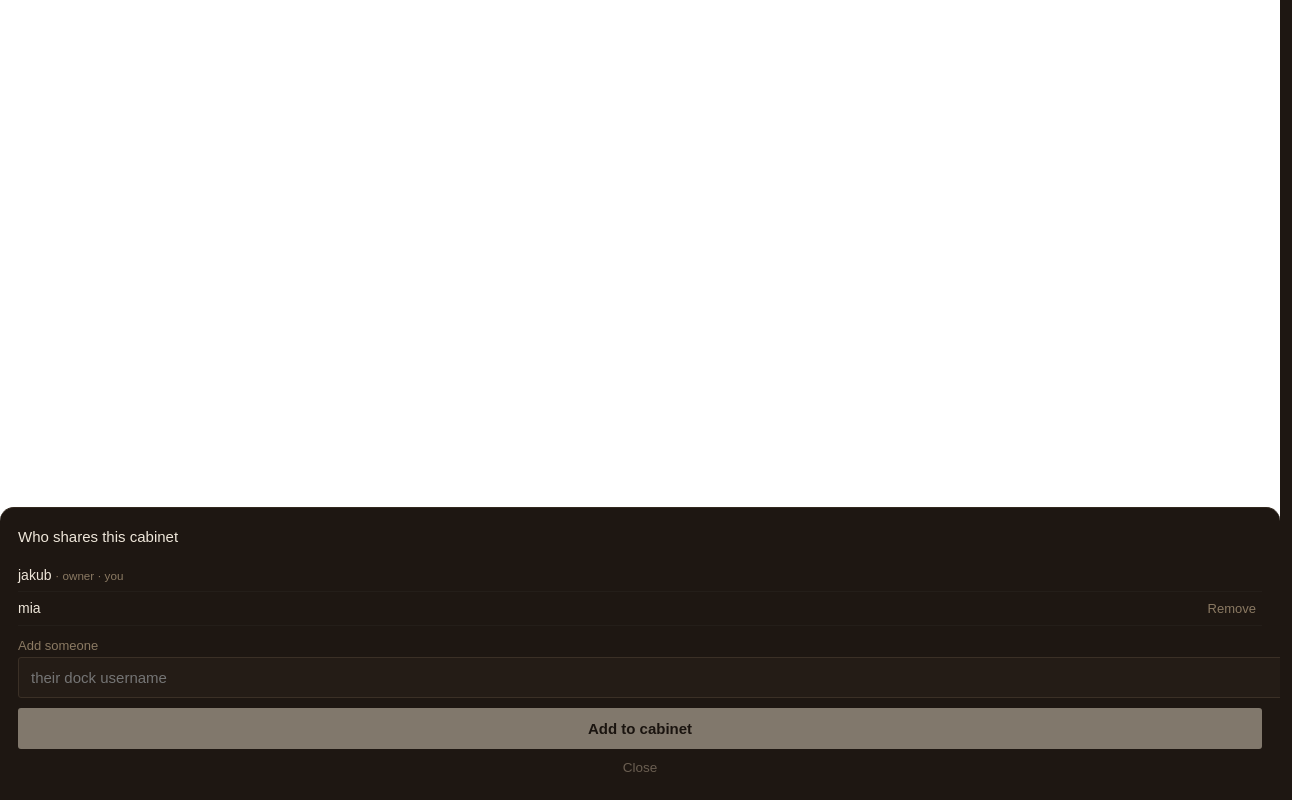
Test case: HouseholdSheet › shows why an add was refused
Type "ola" into the field with test id "household-add-input" at (649, 678), box [18,657,1280,698]
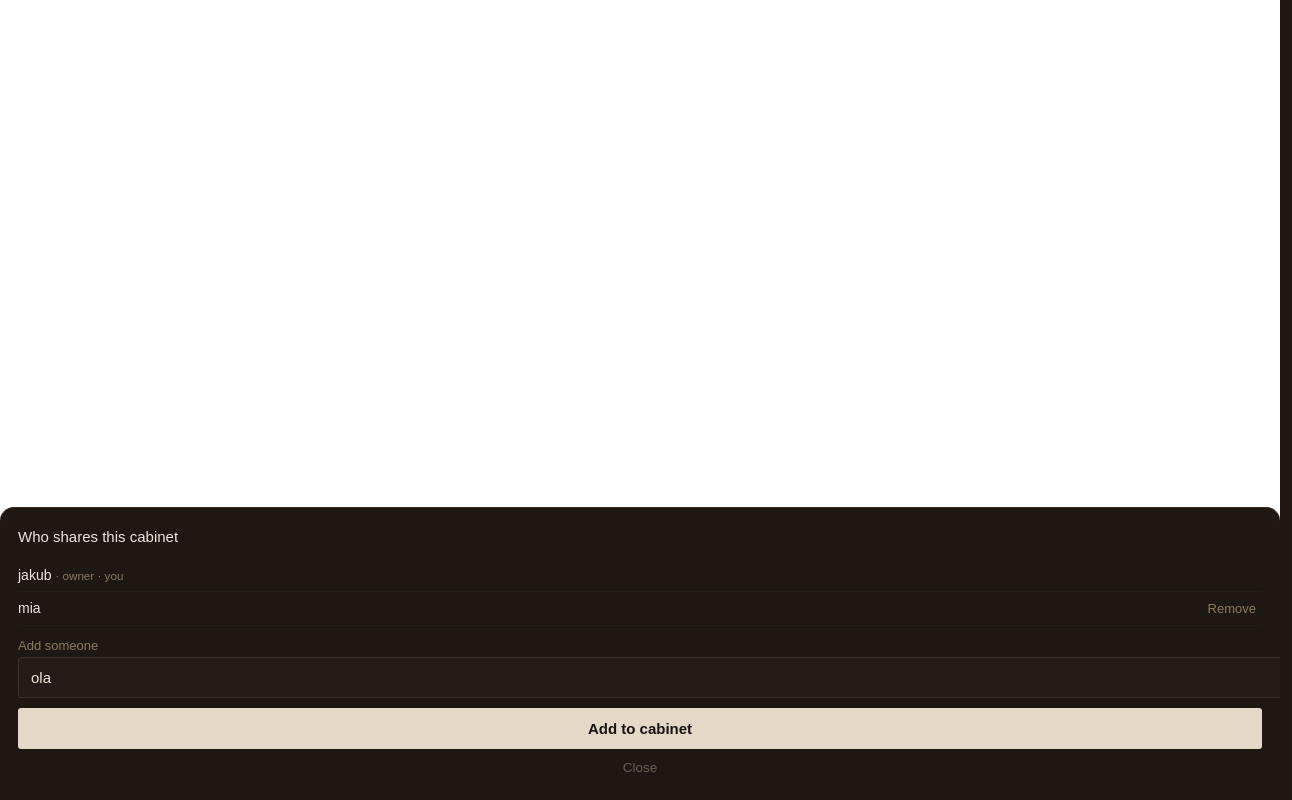
Click the button with test id "household-add" at (640, 728), box [18,708,1262,749]
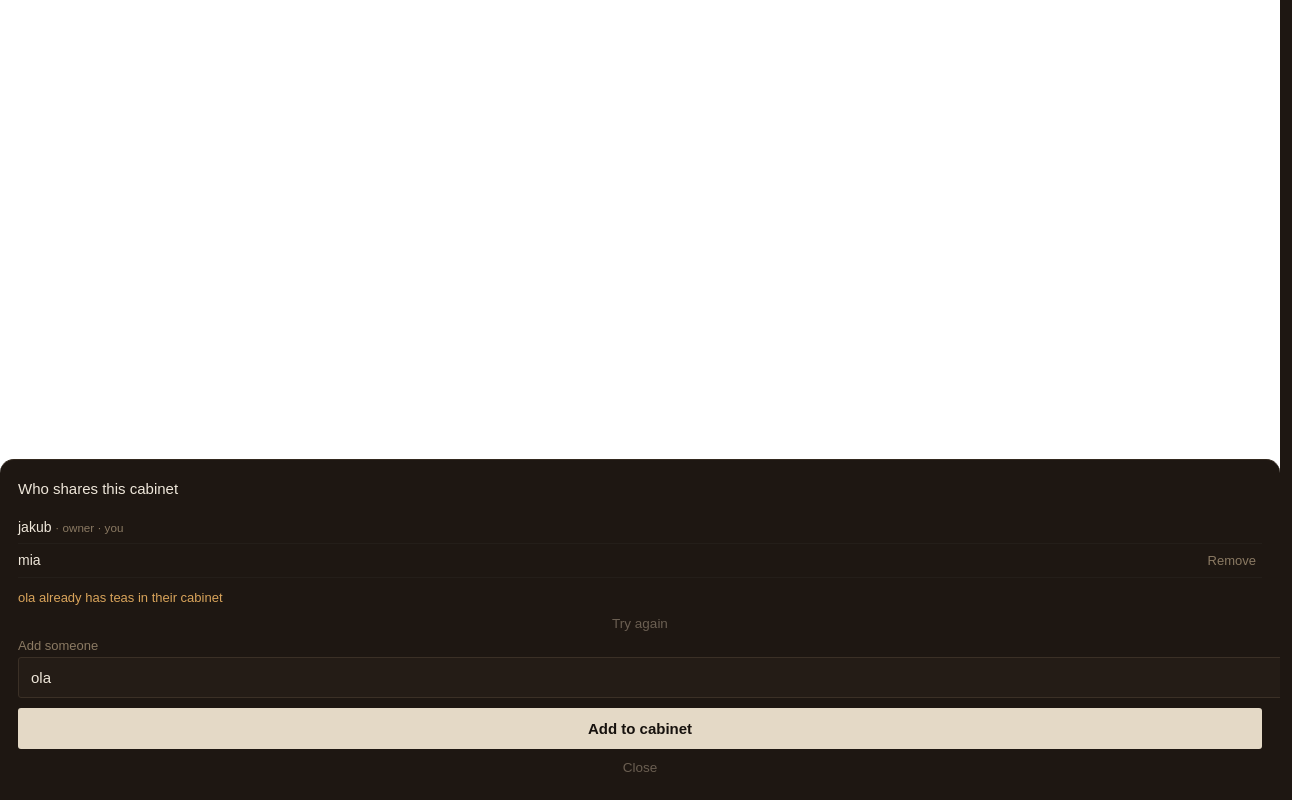
Result: the text with test id "household-error" reads "ola already has teas in their cabinet" at [18,590,222,605]
